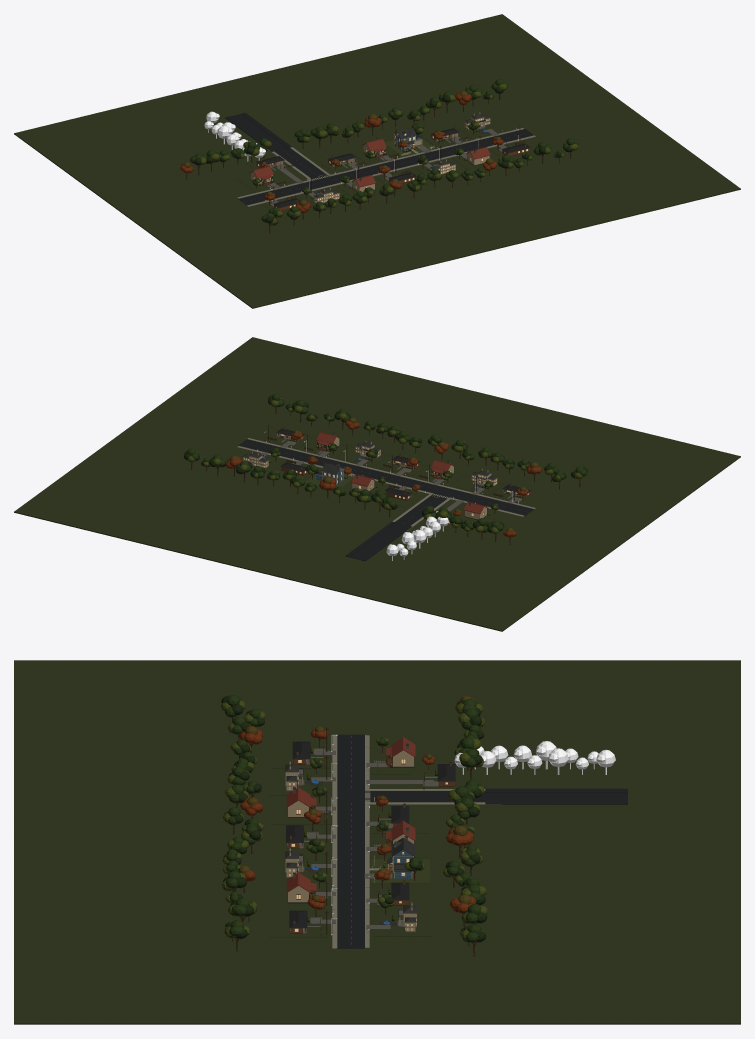
The model's file is westbridge-original.glb.
3 views of the same model, one above another, from view 1: azimuth 30°, elevation 25°; view 2: azimuth 150°, elevation 25°; view 3: azimuth 270°, elevation 25° (orthographic). The views are drawn at different scales.
Visible parts, largest first — view 1: Oak_Crescent · Dry lawn, Oak_Crescent · Aggregate asphalt, Tree_Line · Garden foliage 0, South_Lots · Dry lawn, Tree_Line · Garden foliage 1, Tree_Line · Garden foliage 2, North_Lots · Dry lawn, Oak_Crescent · Worn concrete, Tree_Line · props.001, Tree_Line · Garden foliage 3, North_Lots · Cream.001, Tree_Line · Weathered cedar; view 2: Oak_Crescent · Dry lawn, Oak_Crescent · Aggregate asphalt, Tree_Line · Garden foliage 0, North_Lots · Dry lawn, Tree_Line · Garden foliage 1, Tree_Line · Garden foliage 2, Oak_Crescent · Worn concrete, South_Lots · Dry lawn, Tree_Line · props.001, Tree_Line · Garden foliage 3, Tree_Line · Weathered cedar, North_Lots · Cream.001 (+1 smaller); view 3: Oak_Crescent · Dry lawn, Oak_Crescent · Aggregate asphalt, North_Lots · Dry lawn, Tree_Line · Garden foliage 0, South_Lots · Dry lawn, Tree_Line · Garden foliage 1, Tree_Line · Garden foliage 2, Oak_Crescent · Worn concrete, Tree_Line · props.001, Tree_Line · Garden foliage 3, South_Lots · RoofShingle.001, North_Lots · RoofShingle.001 (+8 smaller).
Boxes of the visible parts, <box> form: Oak_Crescent · Dry lawn: <box>14,14,740,308</box>; Oak_Crescent · Aggregate asphalt: <box>225,112,533,205</box>; Tree_Line · Garden foliage 0: <box>190,79,578,225</box>; South_Lots · Dry lawn: <box>236,119,505,192</box>; Tree_Line · Garden foliage 1: <box>194,83,578,224</box>; Tree_Line · Garden foliage 2: <box>194,87,572,223</box>; North_Lots · Dry lawn: <box>261,141,541,218</box>; Oak_Crescent · Worn concrete: <box>237,128,535,206</box>; Tree_Line · props.001: <box>204,111,265,161</box>; Tree_Line · Garden foliage 3: <box>180,92,497,213</box>; North_Lots · Cream.001: <box>276,149,527,207</box>; Tree_Line · Weathered cedar: <box>186,94,571,233</box>; Oak_Crescent · Dry lawn: <box>14,337,740,631</box>; Oak_Crescent · Aggregate asphalt: <box>238,439,533,561</box>; Tree_Line · Garden foliage 0: <box>184,393,587,532</box>; North_Lots · Dry lawn: <box>264,426,542,504</box>; Tree_Line · Garden foliage 1: <box>187,397,583,533</box>; Tree_Line · Garden foliage 2: <box>184,399,587,532</box>; Oak_Crescent · Worn concrete: <box>237,438,535,530</box>; South_Lots · Dry lawn: <box>241,452,502,530</box>; Tree_Line · props.001: <box>386,511,449,560</box>; Tree_Line · Garden foliage 3: <box>226,420,541,536</box>; Tree_Line · Weathered cedar: <box>191,406,580,544</box>; North_Lots · Cream.001: <box>277,433,528,497</box>; Oak_Crescent · Dry lawn: <box>14,660,740,1024</box>; Oak_Crescent · Aggregate asphalt: <box>337,734,627,948</box>; North_Lots · Dry lawn: <box>266,744,330,937</box>; Tree_Line · Garden foliage 0: <box>225,695,481,942</box>; South_Lots · Dry lawn: <box>371,749,469,936</box>; Tree_Line · Garden foliage 1: <box>221,700,487,940</box>; Tree_Line · Garden foliage 2: <box>221,695,487,942</box>; Oak_Crescent · Worn concrete: <box>332,734,501,948</box>; Tree_Line · props.001: <box>454,741,615,774</box>; Tree_Line · Garden foliage 3: <box>238,698,476,913</box>; South_Lots · RoofShingle.001: <box>391,762,455,900</box>; North_Lots · RoofShingle.001: <box>286,741,310,928</box>.
Bounding box in the file's own units: 260 × 11.54 × 220.
50 materials, 44 textured.
